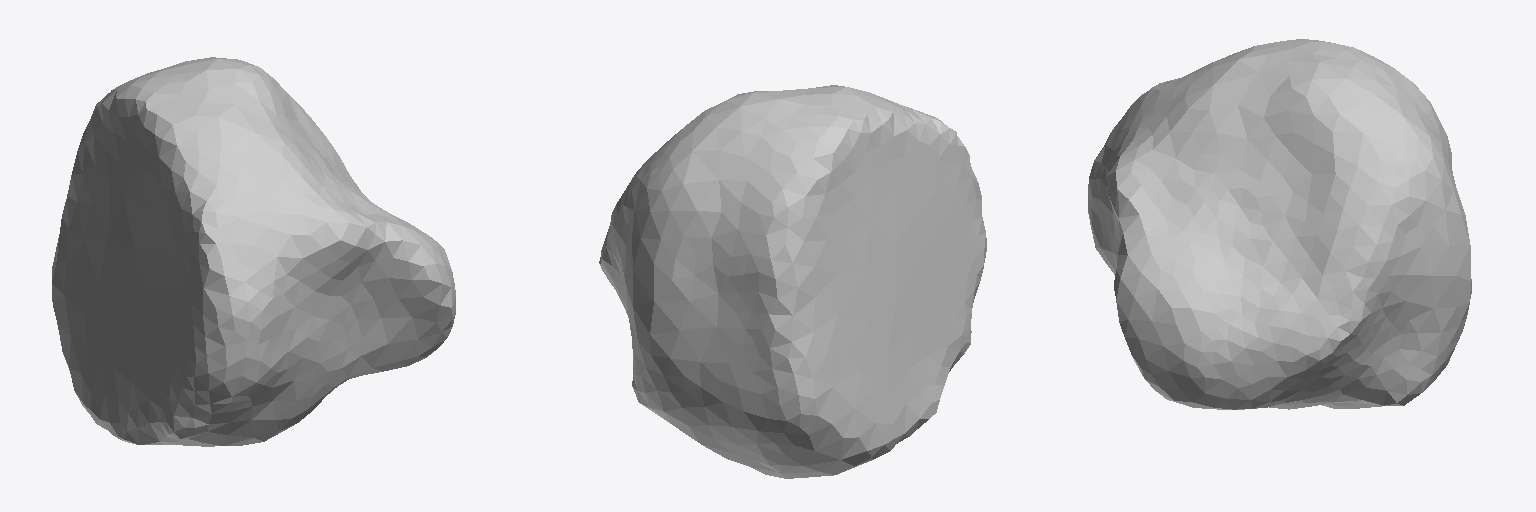
File: Mosquito.obj
3 views of the same model, side by side, from view 1: azimuth 30°, elevation 25°; view 2: azimuth 150°, elevation 25°; view 3: azimuth 270°, elevation 25° (orthographic).
Parts seen in each view (by area): view 1: 5_amber_lr_amber_mod.o; view 2: 5_amber_lr_amber_mod.o; view 3: 5_amber_lr_amber_mod.o.
Part boxes in pixels (left/top/right/bottom): 5_amber_lr_amber_mod.o: left=52, top=57, right=455, bottom=446; 5_amber_lr_amber_mod.o: left=599, top=85, right=986, bottom=478; 5_amber_lr_amber_mod.o: left=1088, top=39, right=1471, bottom=409.
Size of the model in its own units: 0.8792 by 0.9967 by 0.9725.